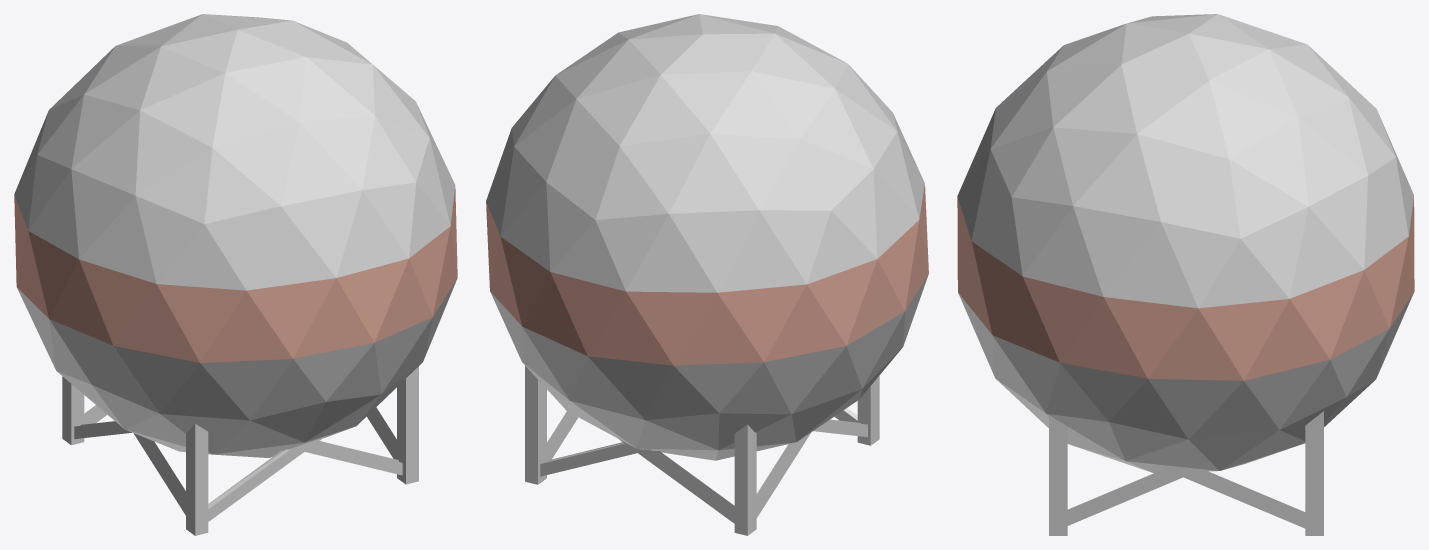
3 views of the same model, side by side, from view 1: azimuth 30°, elevation 25°; view 2: azimuth 150°, elevation 25°; view 3: azimuth 270°, elevation 25° (orthographic). The views are drawn at different scales.
Visible parts, largest first — view 1: Sphere_5; view 2: Sphere_5; view 3: Sphere_5.
Part boxes in pixels (box(x1,y1,x2,y2)): Sphere_5: box(14, 14, 457, 535); Sphere_5: box(486, 14, 928, 535); Sphere_5: box(957, 14, 1414, 535).
Size of the model in its own units: 537 by 572 by 533.
